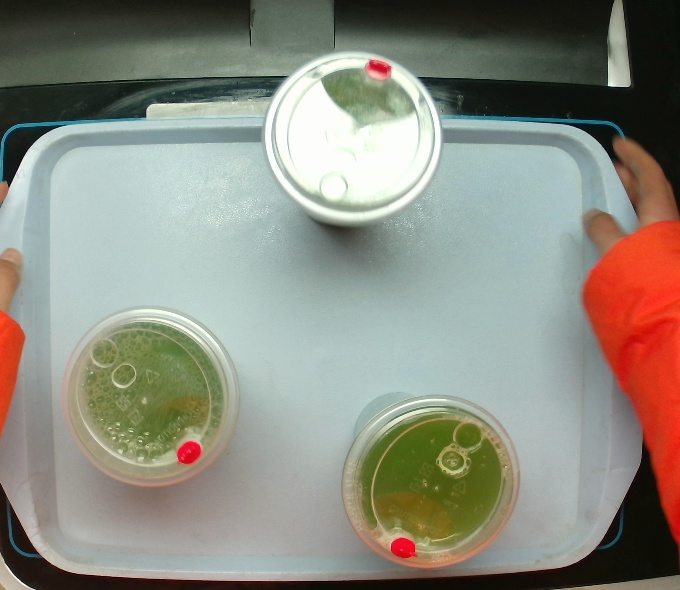wcq-HuangGuaZhi: (59, 305, 241, 489), (259, 48, 444, 228), (340, 388, 521, 570)
